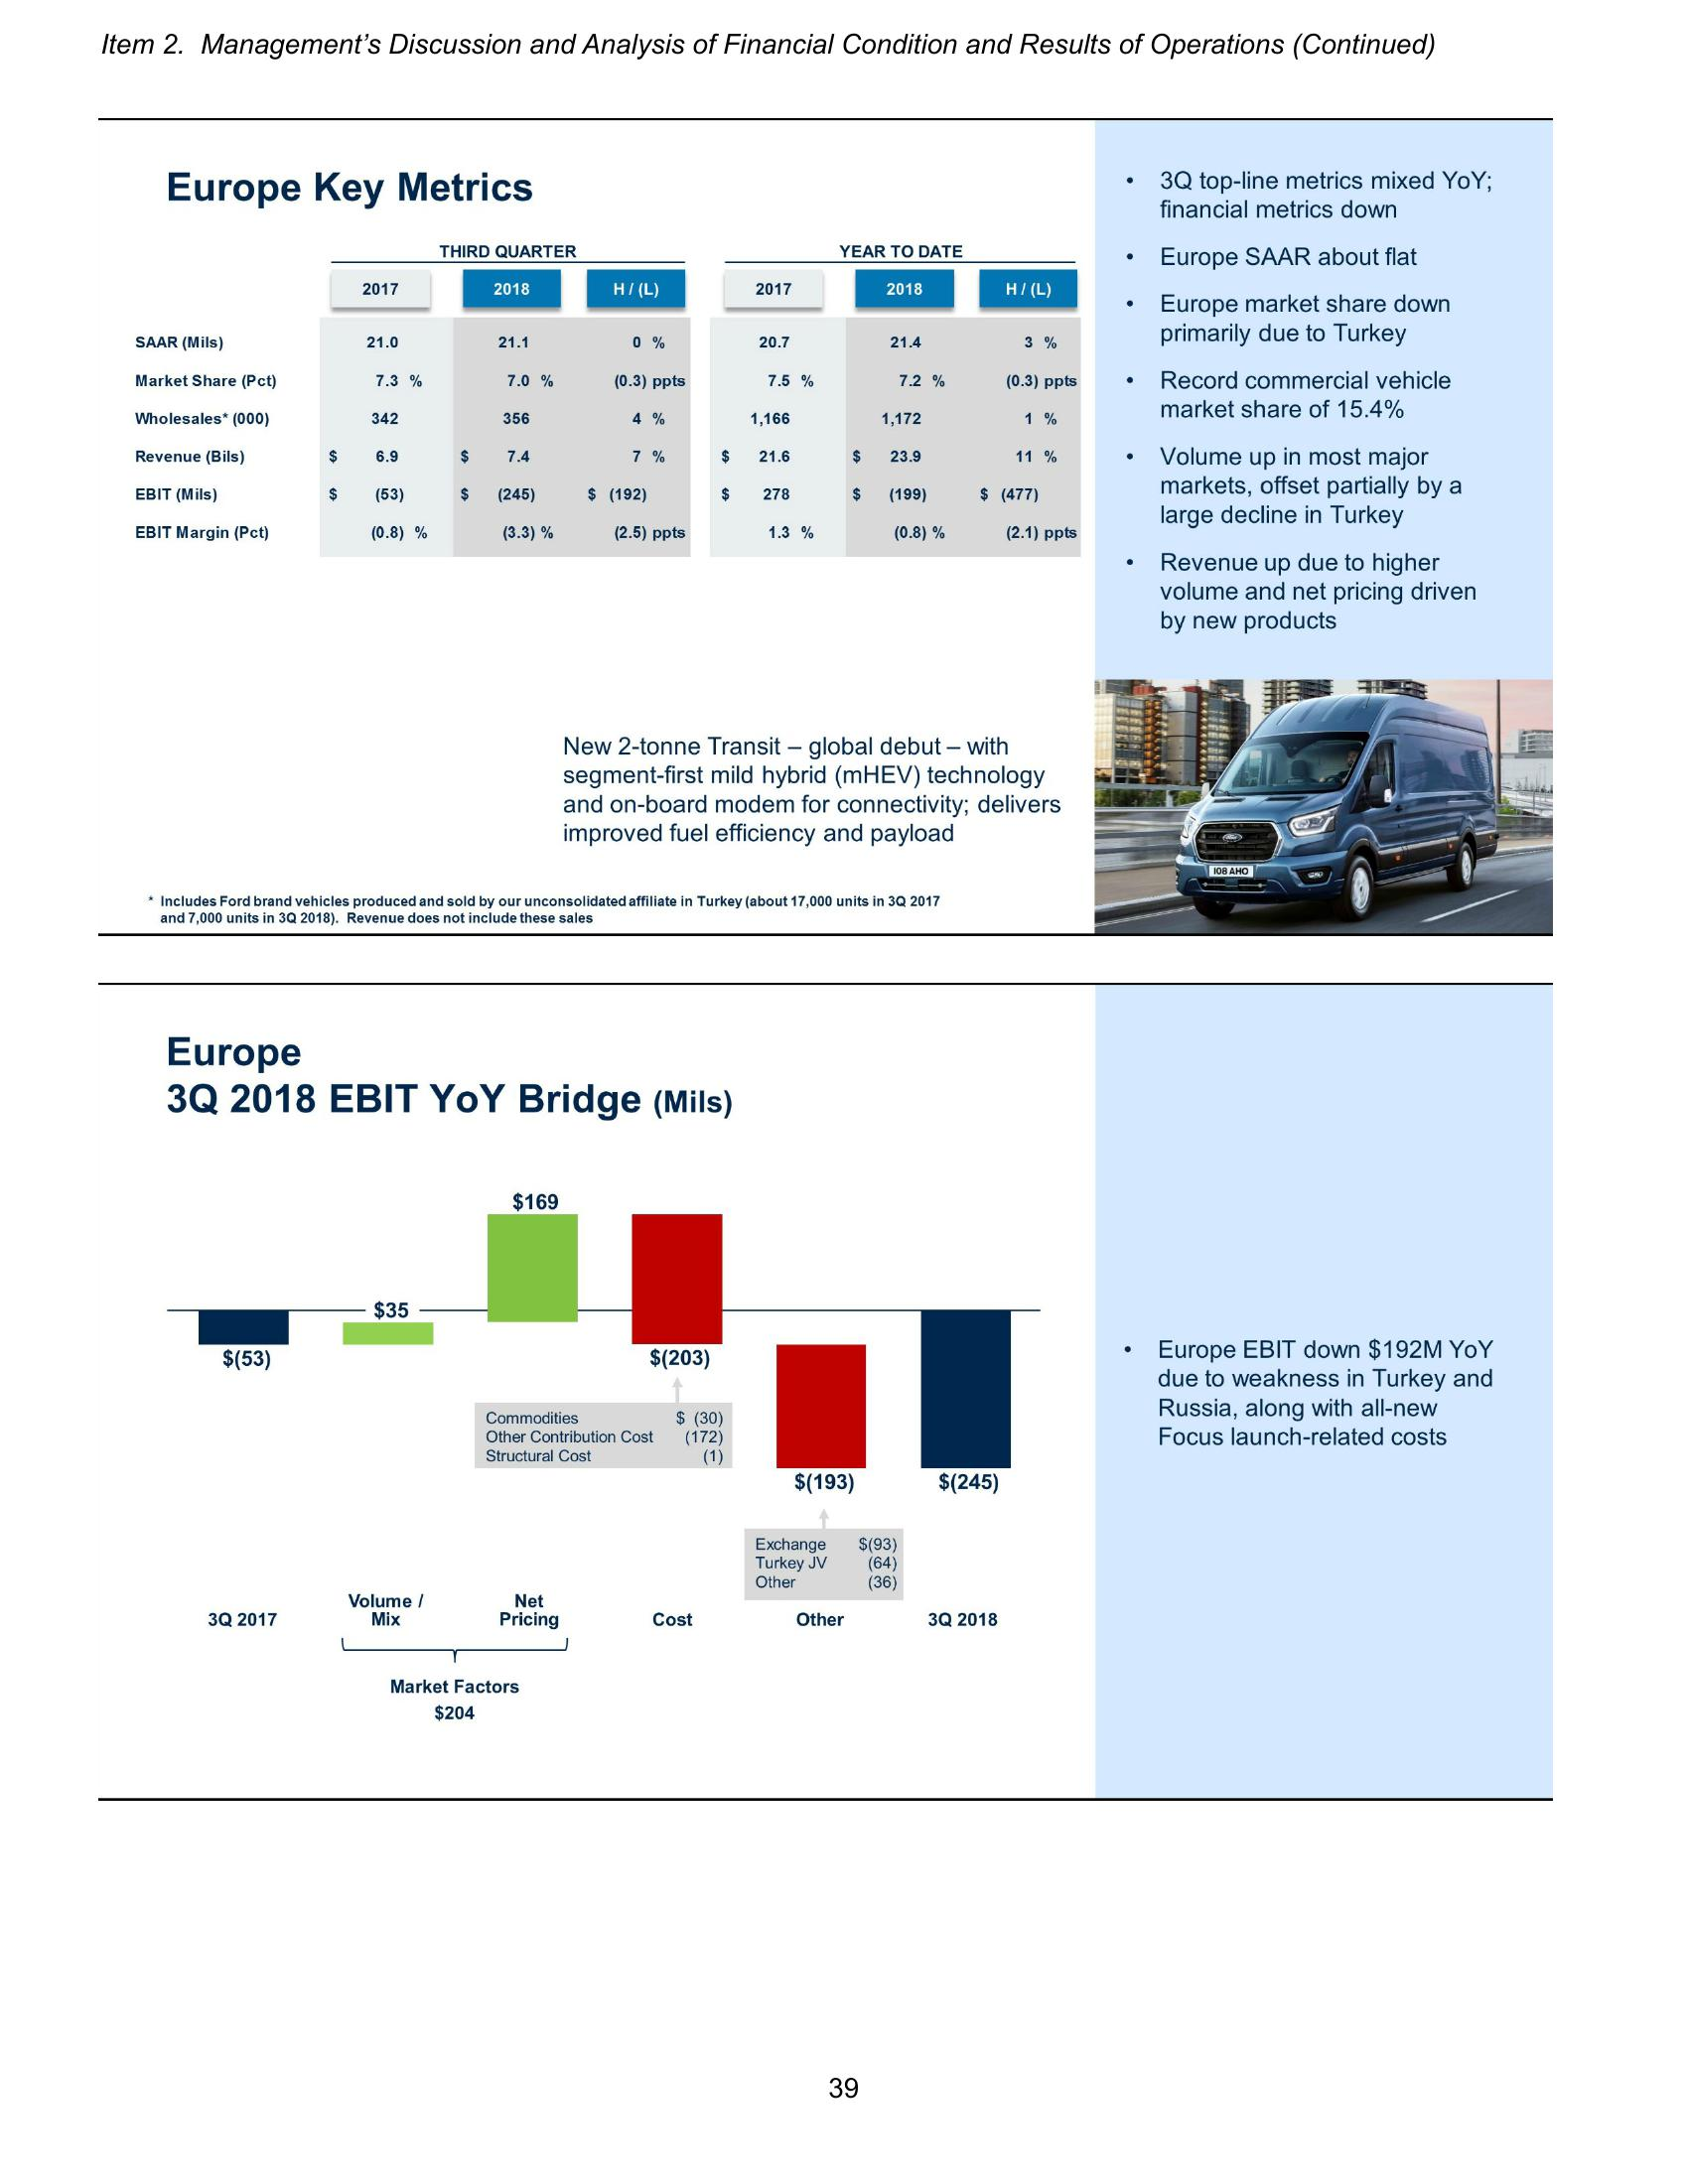table: (128, 236, 1085, 558)
